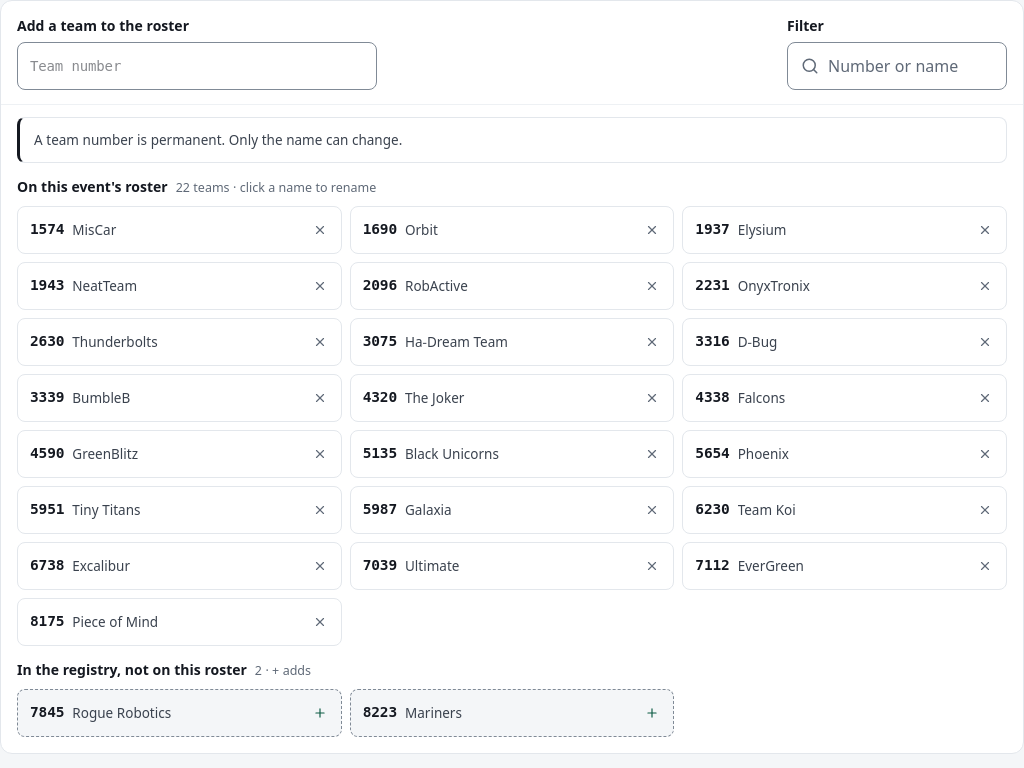
it: RosterPanel › suggests registry teams for a typed number, and a pick adds it
In the dropdown: (197, 66) [17,42,377,90], type "78"
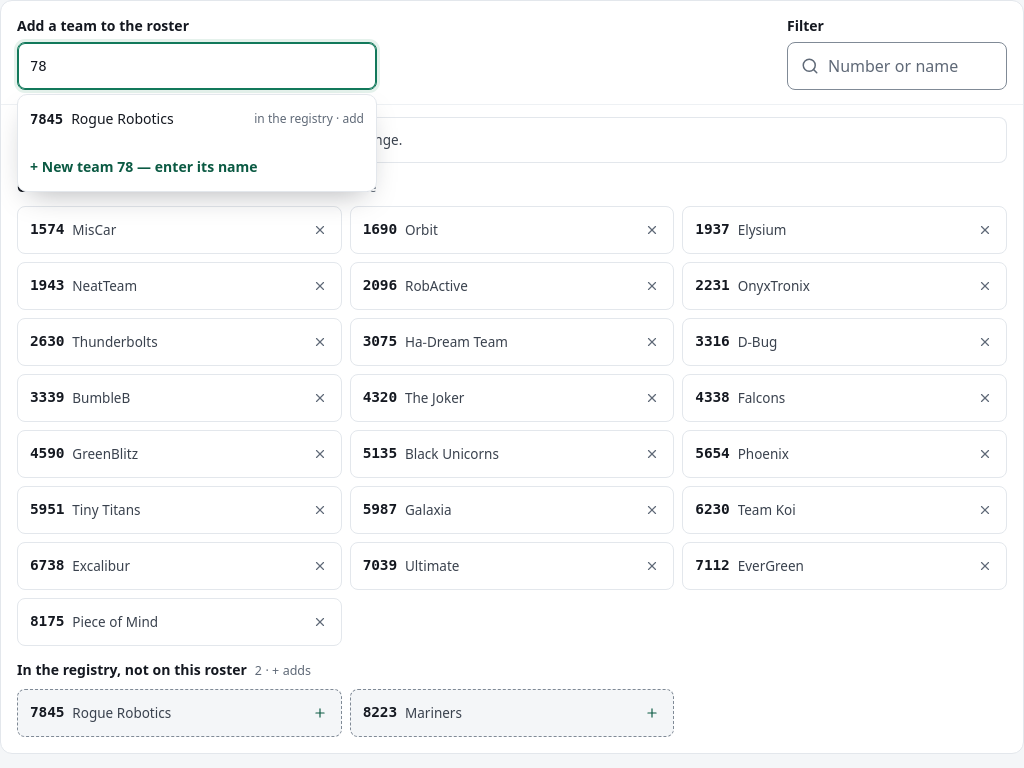
Click the option "7845 Rogue Robotics in the registry · add": click(47, 119) [30,109,364,128]
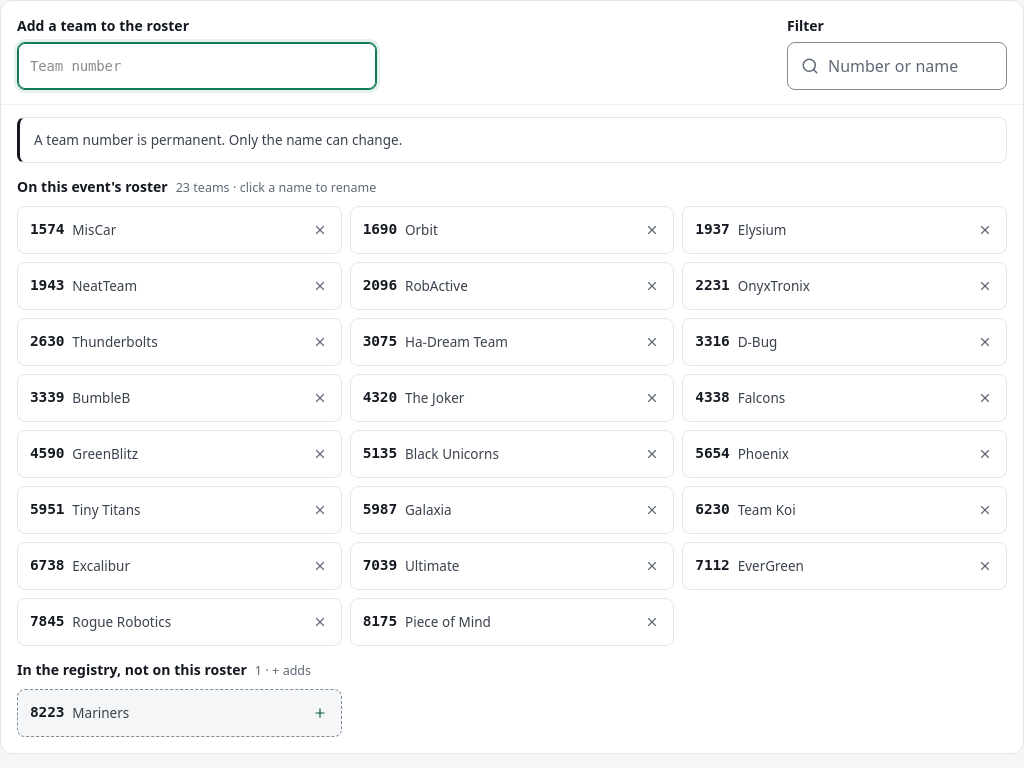
Expected: the option "New team" is gone
